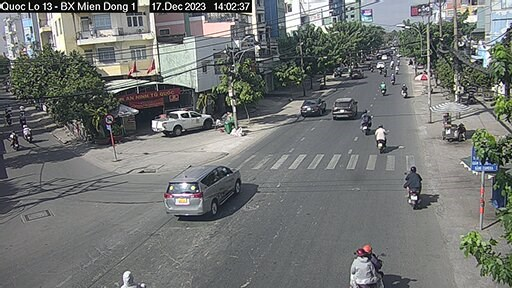car: (162, 164, 243, 219), (151, 109, 213, 136), (331, 91, 358, 122), (298, 93, 328, 120), (346, 66, 367, 82)
motorbike: (346, 238, 393, 288), (399, 159, 431, 213), (371, 123, 387, 151), (5, 128, 21, 152), (400, 83, 413, 104), (380, 80, 393, 101), (19, 124, 34, 141), (361, 109, 371, 134)
